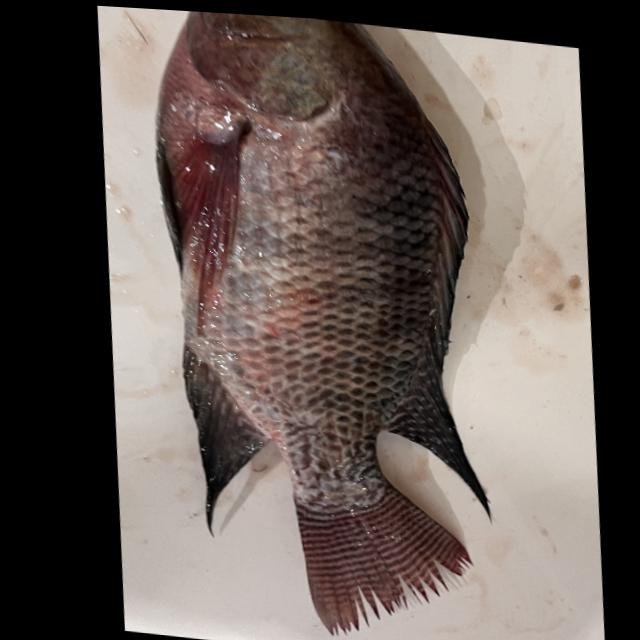Tilapia: (118, 7, 524, 640)
